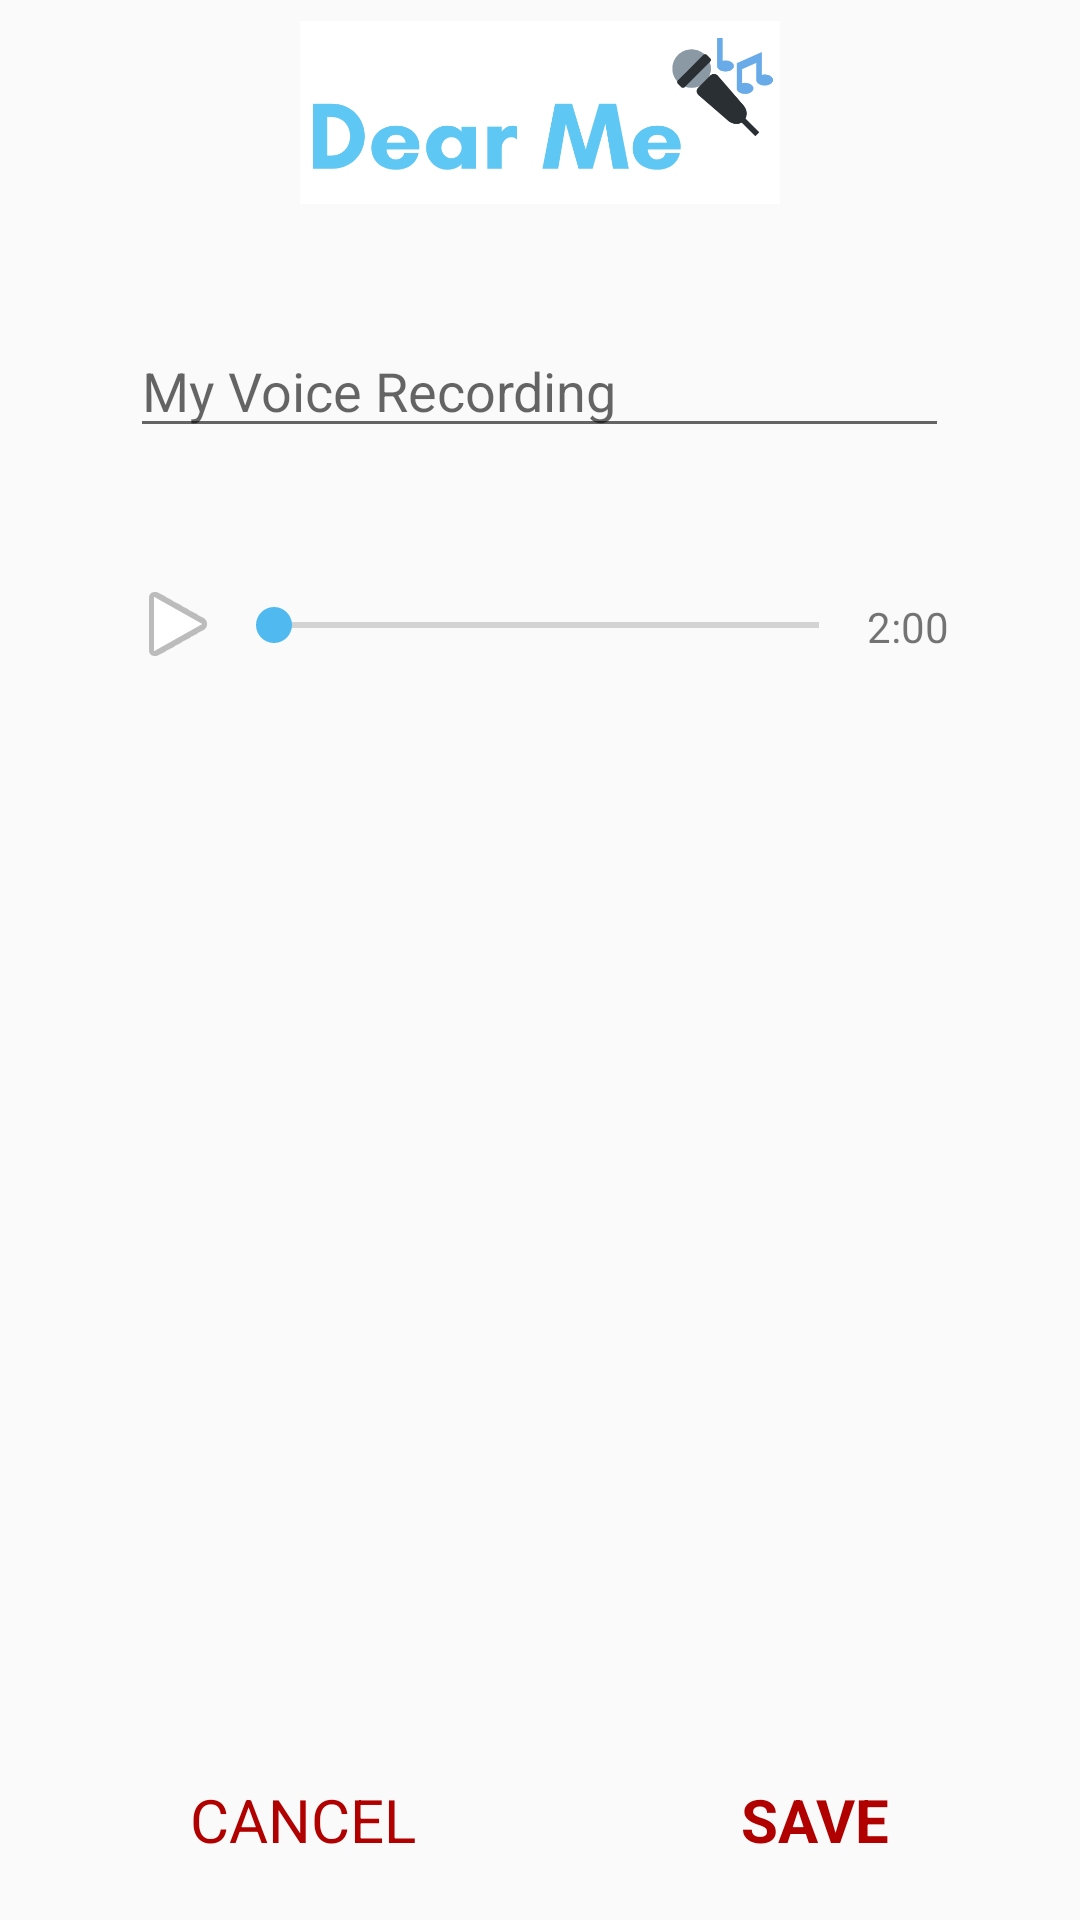

Icons on this 1080w x 1920h Android screen, each with the point to tap as [x,y]:
play: [178,624]
